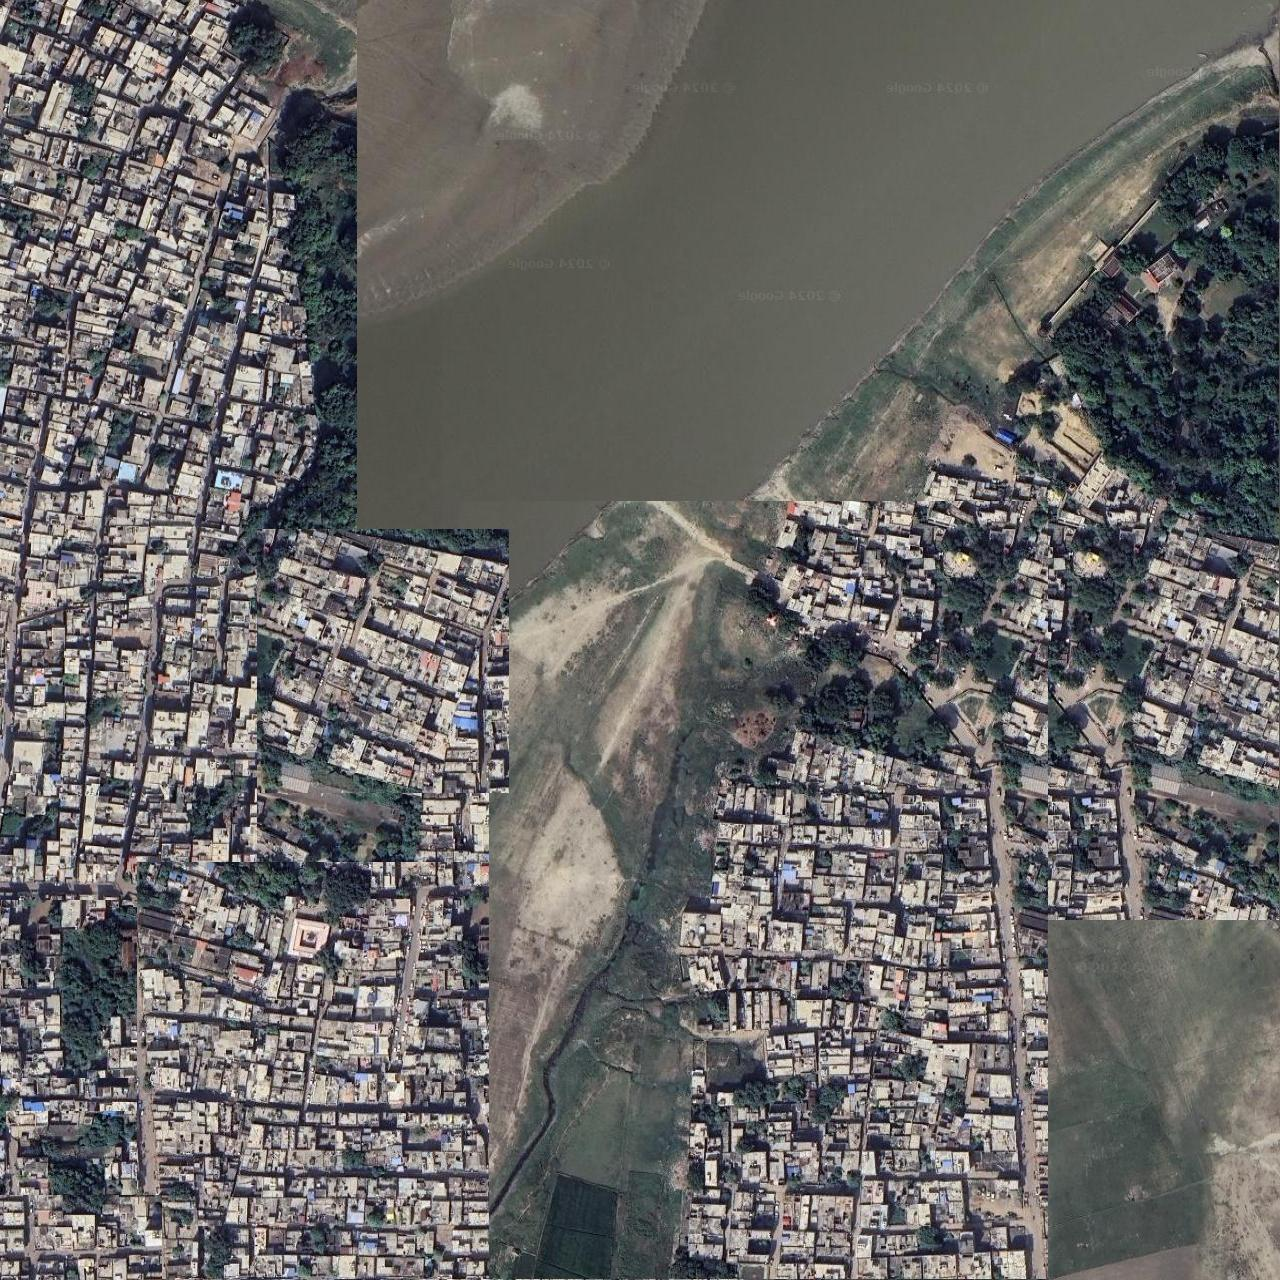greenery: (459, 502, 1048, 1280), (243, 93, 583, 560), (258, 767, 489, 919), (2, 901, 183, 1078), (6, 1111, 142, 1223), (230, 0, 285, 75)
house: (138, 863, 489, 1280), (258, 530, 509, 794), (550, 413, 733, 658), (0, 1194, 162, 1280), (512, 393, 620, 508), (125, 828, 272, 886)
water: (358, 0, 1279, 920)
